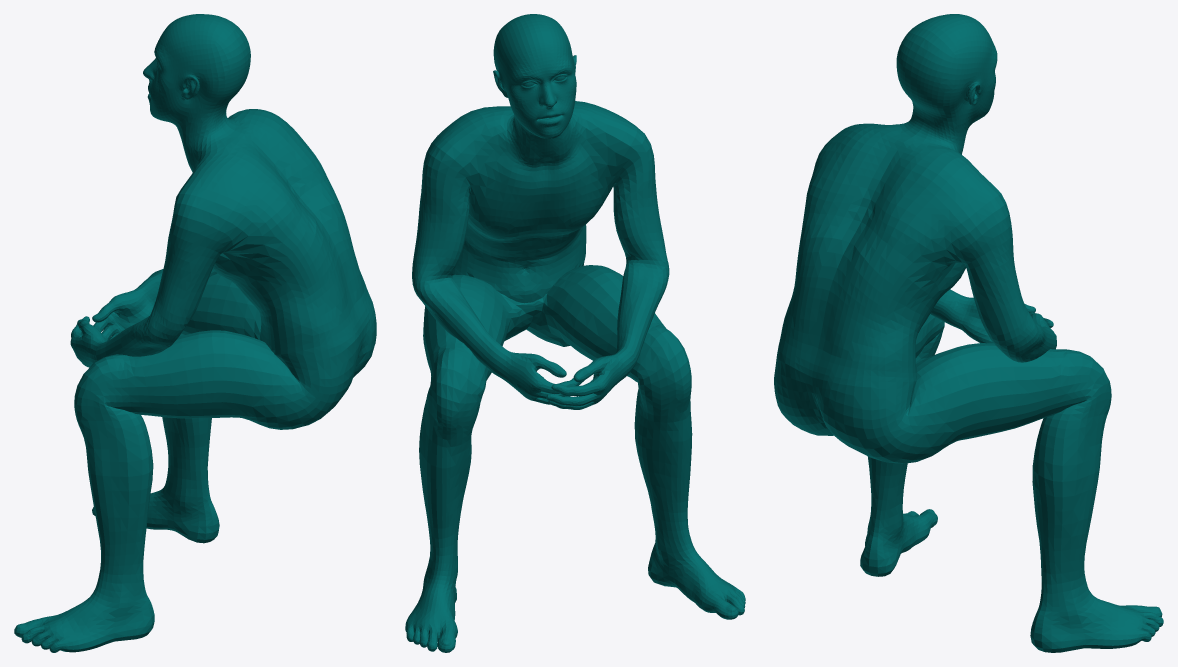
The model's file is pose_original_2.obj.
3 views of the same model, side by side, from view 1: azimuth 30°, elevation 25°; view 2: azimuth 150°, elevation 25°; view 3: azimuth 270°, elevation 25° (orthographic). The views are drawn at different scales.
Size of the model in its own units: 1.66 by 2.74 by 1.59.
